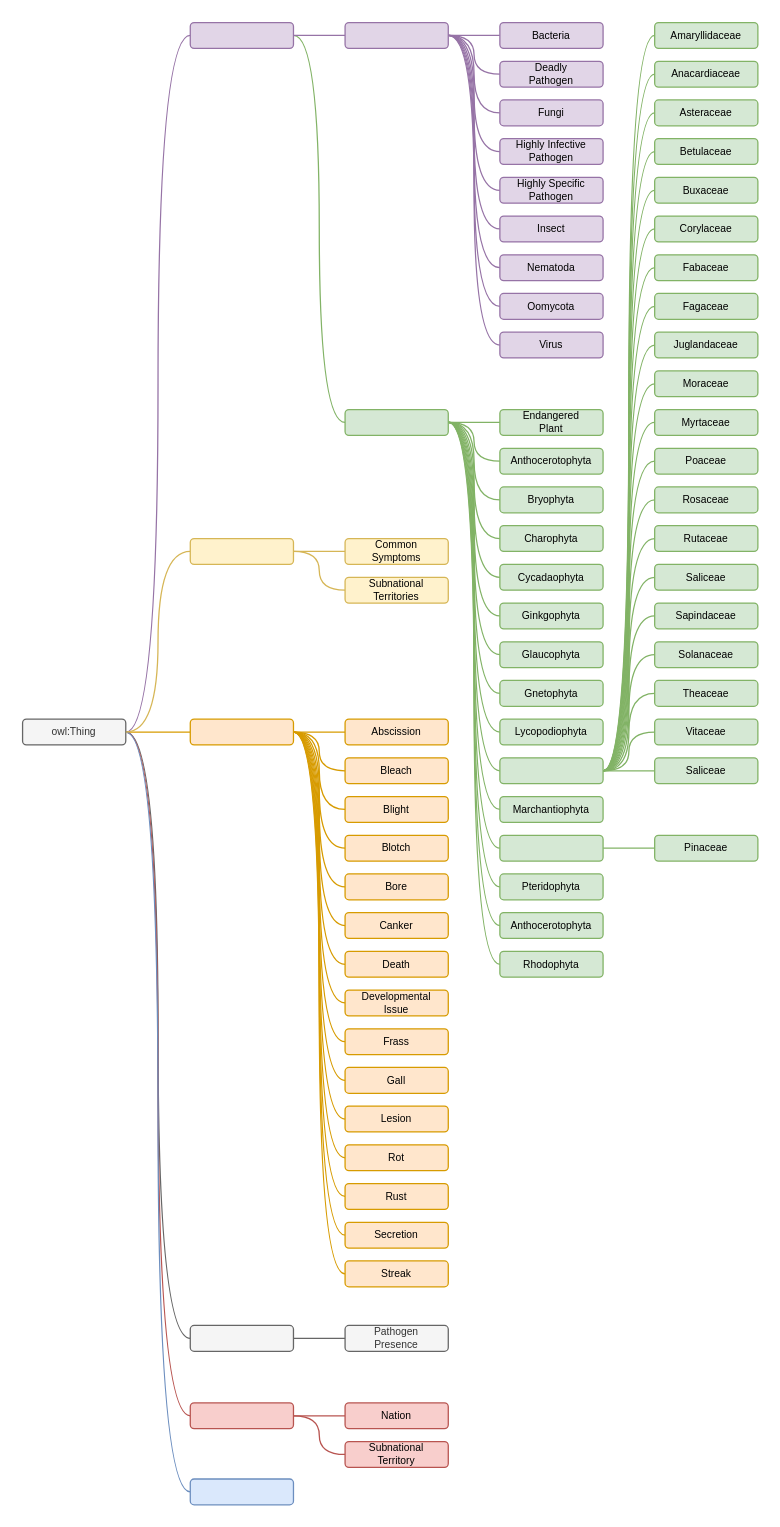
The diagram is 780 pixels wide and 1527 high, and some of its shapes have lost their labels. Each missing label, with the box of its shape:
Biological Entity: (189, 21, 293, 48)
Collection: (189, 537, 293, 564)
Disease Symptom: (189, 718, 293, 745)
Event: (189, 1324, 293, 1351)
Geographical Entity: (189, 1402, 293, 1429)
Magnoliophyta: (499, 757, 603, 784)
Pathogen: (344, 21, 448, 48)
Pinophyta: (499, 834, 603, 861)
Plant: (344, 408, 448, 435)
Plant Part: (189, 1478, 293, 1505)
